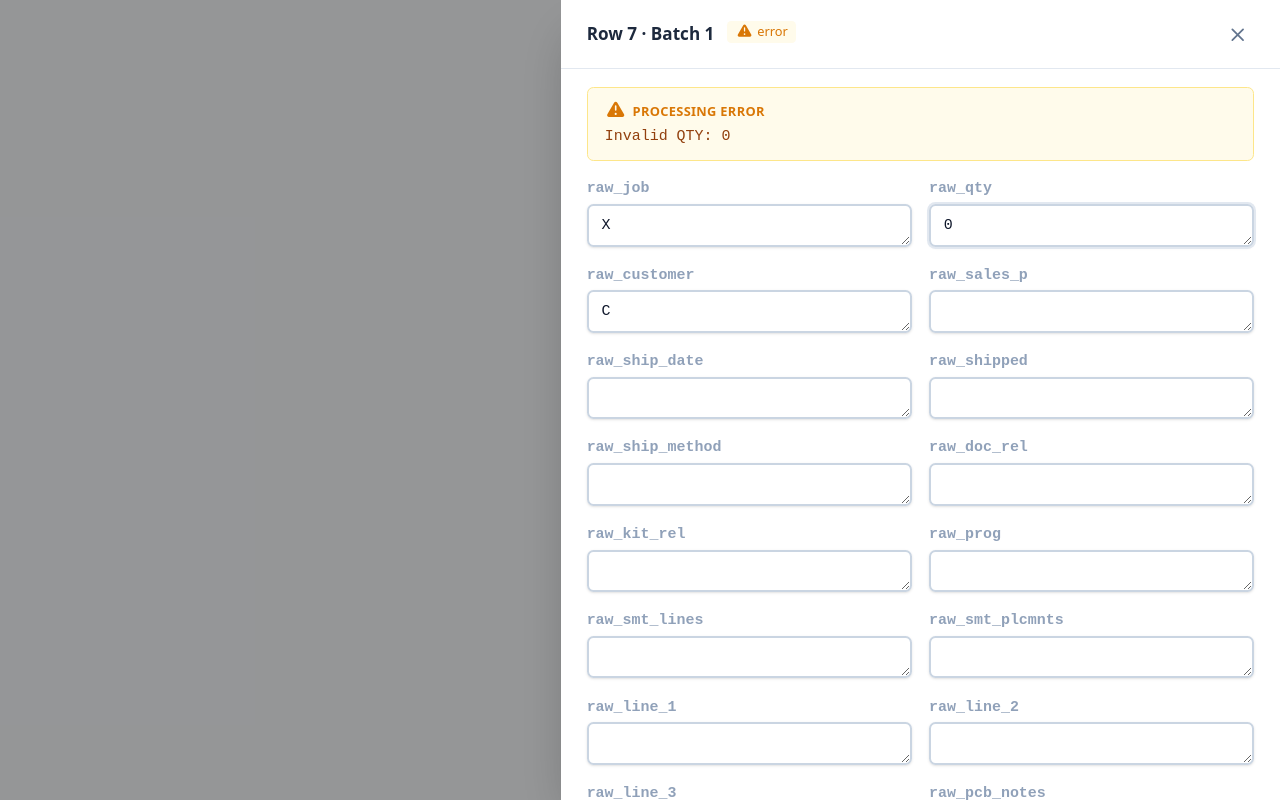
Test: ReconciliationSidebar › discard button is disabled when hasChanges is true
Replace the text in the text box named "raw_qty" with "5" at (1092, 225), box [929, 204, 1254, 246]
(page scrolled)
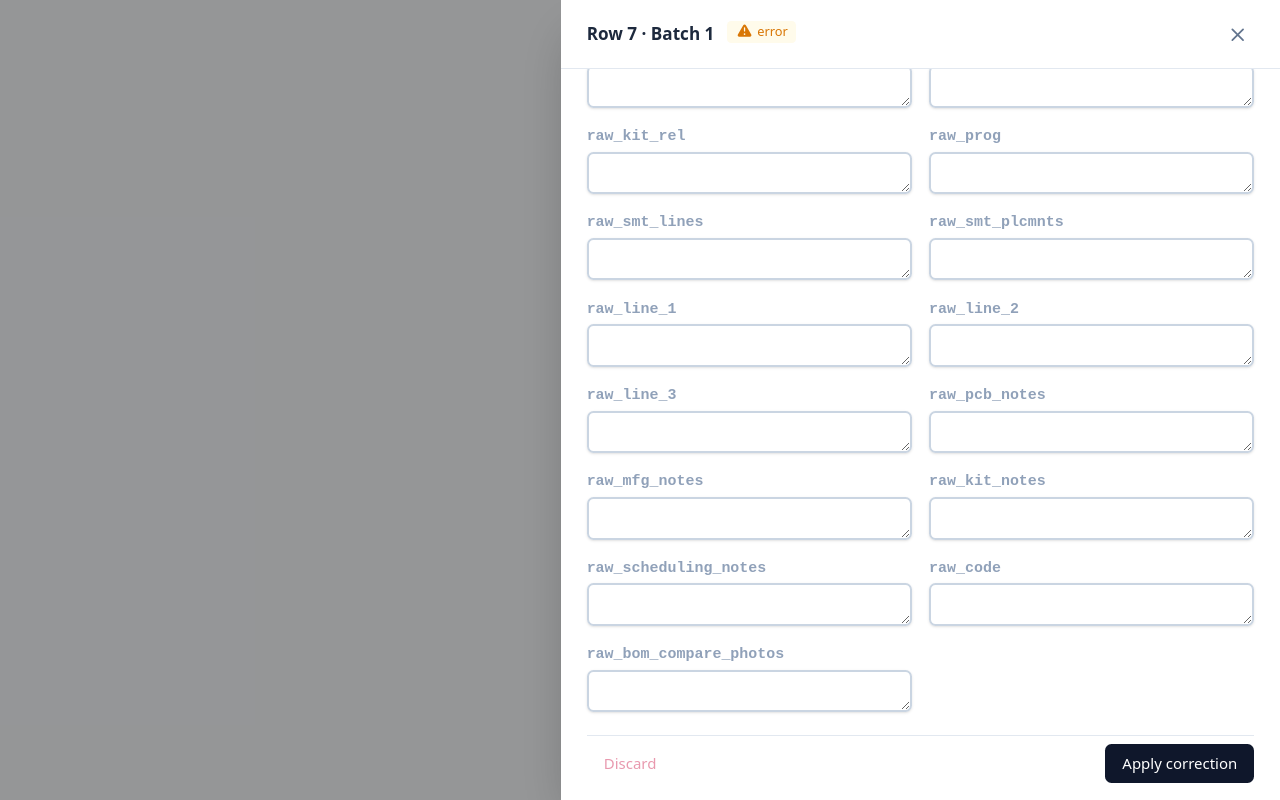
Check: the button with test id "sidebar-discard-btn" is disabled, box [587, 744, 674, 783]
